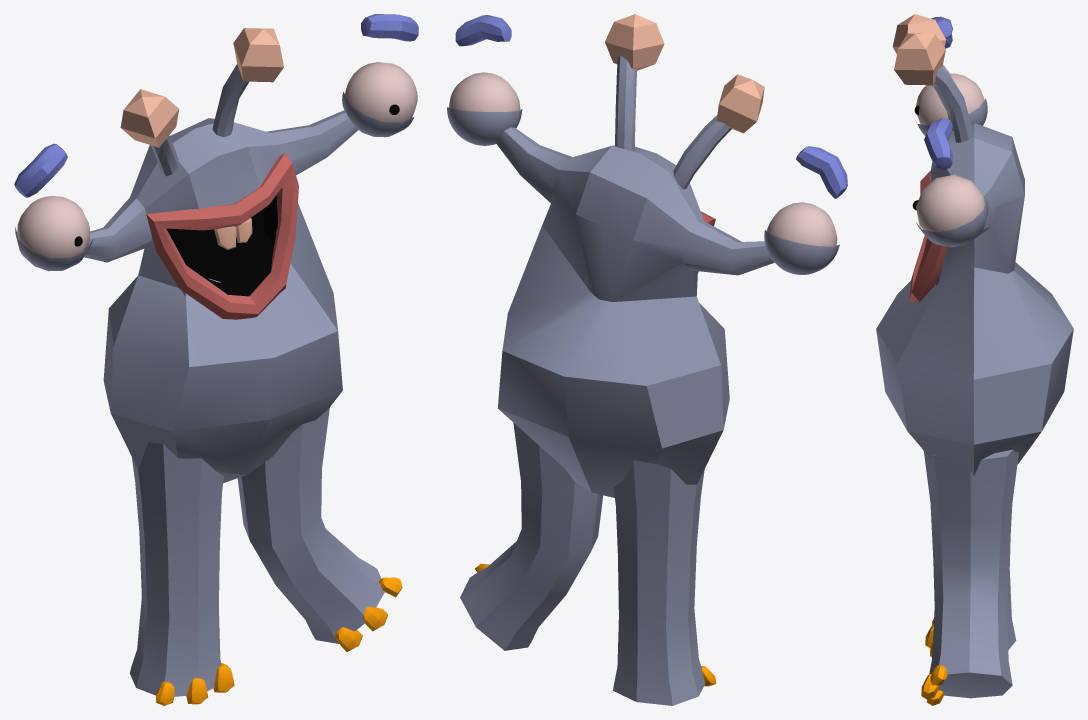
The model's file is elf8.glb.
3 views of the same model, side by side, from view 1: azimuth 30°, elevation 25°; view 2: azimuth 150°, elevation 25°; view 3: azimuth 270°, elevation 25° (orthographic). The views are drawn at different scales.
Parts seen in each view (by area): view 1: body, leg (×2), mouth, eye (×2), mouth inside, antenna end (×2), eyebrow (×2), antenna (×2), eyelid (×2); view 2: body, leg (×2), eye (×2), antenna end (×2), eyelid (×2), antenna (×2), eyebrow (×2); view 3: body, leg (×2), eye (×2), antenna end (×2), mouth, eyelid (×2), antenna, eyebrow (×2).
Boxes of the visible parts, left/top/right/bottom form: body: left=84, top=110, right=358, bottom=482; leg (×2): left=129, top=407, right=384, bottom=696; mouth: left=146, top=153, right=298, bottom=319; eye (×2): left=17, top=62, right=417, bottom=257; mouth inside: left=166, top=195, right=277, bottom=296; antenna end (×2): left=120, top=28, right=283, bottom=147; eyebrow (×2): left=14, top=14, right=418, bottom=197; antenna (×2): left=151, top=64, right=248, bottom=176; eyelid (×2): left=15, top=92, right=413, bottom=271; body: left=495, top=127, right=774, bottom=497; leg (×2): left=460, top=423, right=705, bottom=705; eye (×2): left=448, top=72, right=837, bottom=246; antenna end (×2): left=605, top=14, right=764, bottom=133; eyelid (×2): left=447, top=107, right=839, bottom=274; antenna (×2): left=615, top=55, right=731, bottom=189; eyebrow (×2): left=455, top=15, right=847, bottom=198; body: left=876, top=122, right=1073, bottom=475; leg (×2): left=924, top=449, right=1018, bottom=698; eye (×2): left=916, top=73, right=984, bottom=232; antenna end (×2): left=892, top=14, right=945, bottom=85; mouth: left=909, top=171, right=947, bottom=302; eyelid (×2): left=915, top=98, right=988, bottom=247; antenna: left=931, top=67, right=973, bottom=142; eyebrow (×2): left=924, top=16, right=952, bottom=170.
Bounding box in the file's own units: 3.31 × 5.25 × 1.47.
